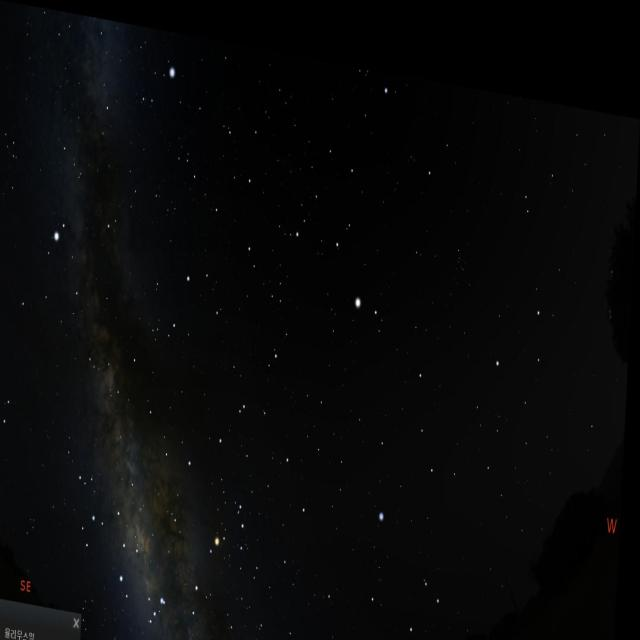aquila: (32, 200, 128, 386)
bootes: (292, 118, 398, 328)
leo: (491, 236, 634, 408)
lyra: (132, 48, 178, 113)
sagittarius: (71, 462, 158, 610)
scorpius: (149, 453, 258, 640)
